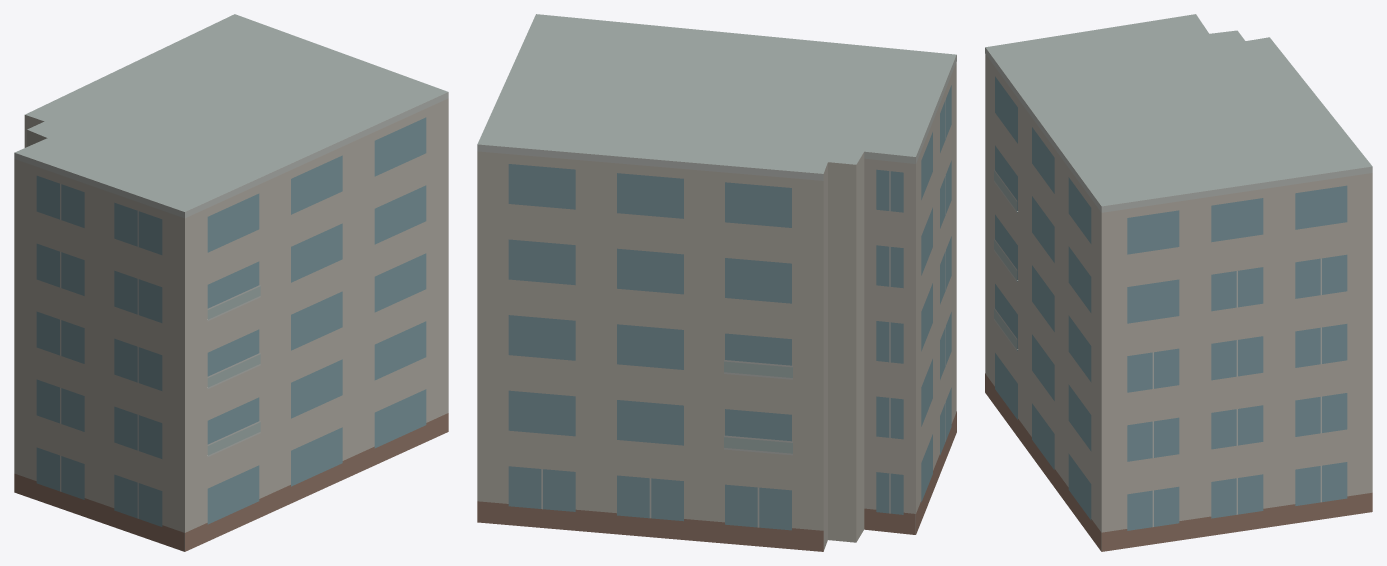
The model's file is survey-upis-32888396.glb.
The picture shows the model from 3 angles, left to right: view 1: azimuth 30°, elevation 25°; view 2: azimuth 150°, elevation 25°; view 3: azimuth 270°, elevation 25°; orthographic projection. The views are drawn at different scales.
Parts seen in each view (by area): view 1: survey-upis-32888396.tmp; view 2: survey-upis-32888396.tmp; view 3: survey-upis-32888396.tmp.
Boxes of the visible parts, x1,y1,x2,y2 form: survey-upis-32888396.tmp: (14,14,448,551); survey-upis-32888396.tmp: (477,14,956,551); survey-upis-32888396.tmp: (985,14,1372,551).
Bounding box in the file's own units: 15.78 × 13.2 × 13.43.
